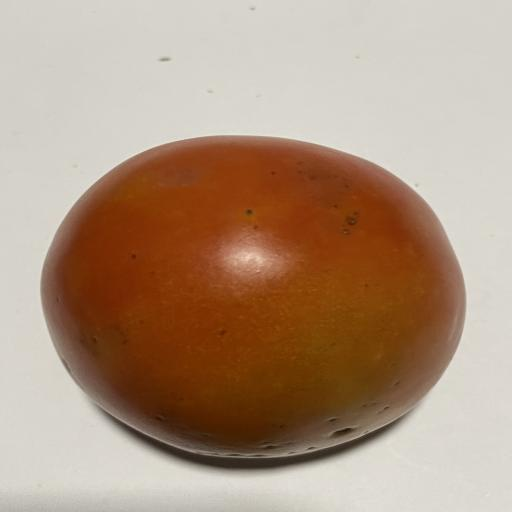ripe: (41, 136, 465, 458)
